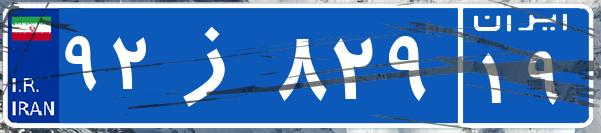1: (475, 38, 525, 113)
2: (330, 28, 385, 110), (110, 28, 158, 105)
8: (273, 28, 330, 110)
9: (385, 28, 445, 110), (57, 26, 110, 107), (525, 38, 570, 115)
ز: (158, 15, 273, 115)
